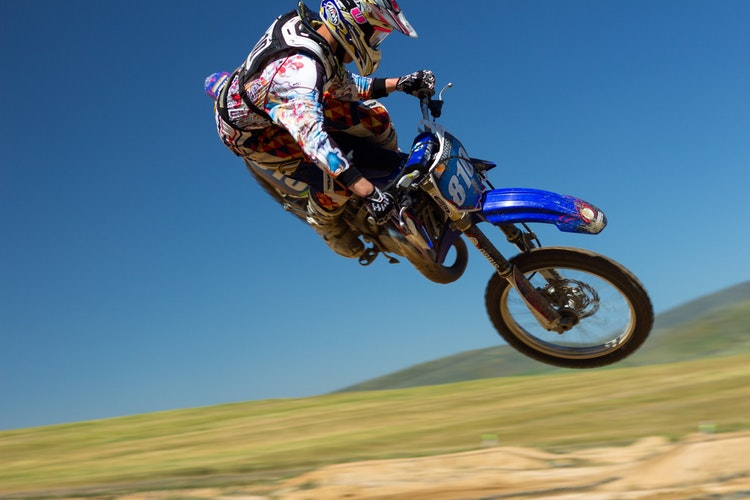helmet: (318, 2, 425, 72)
